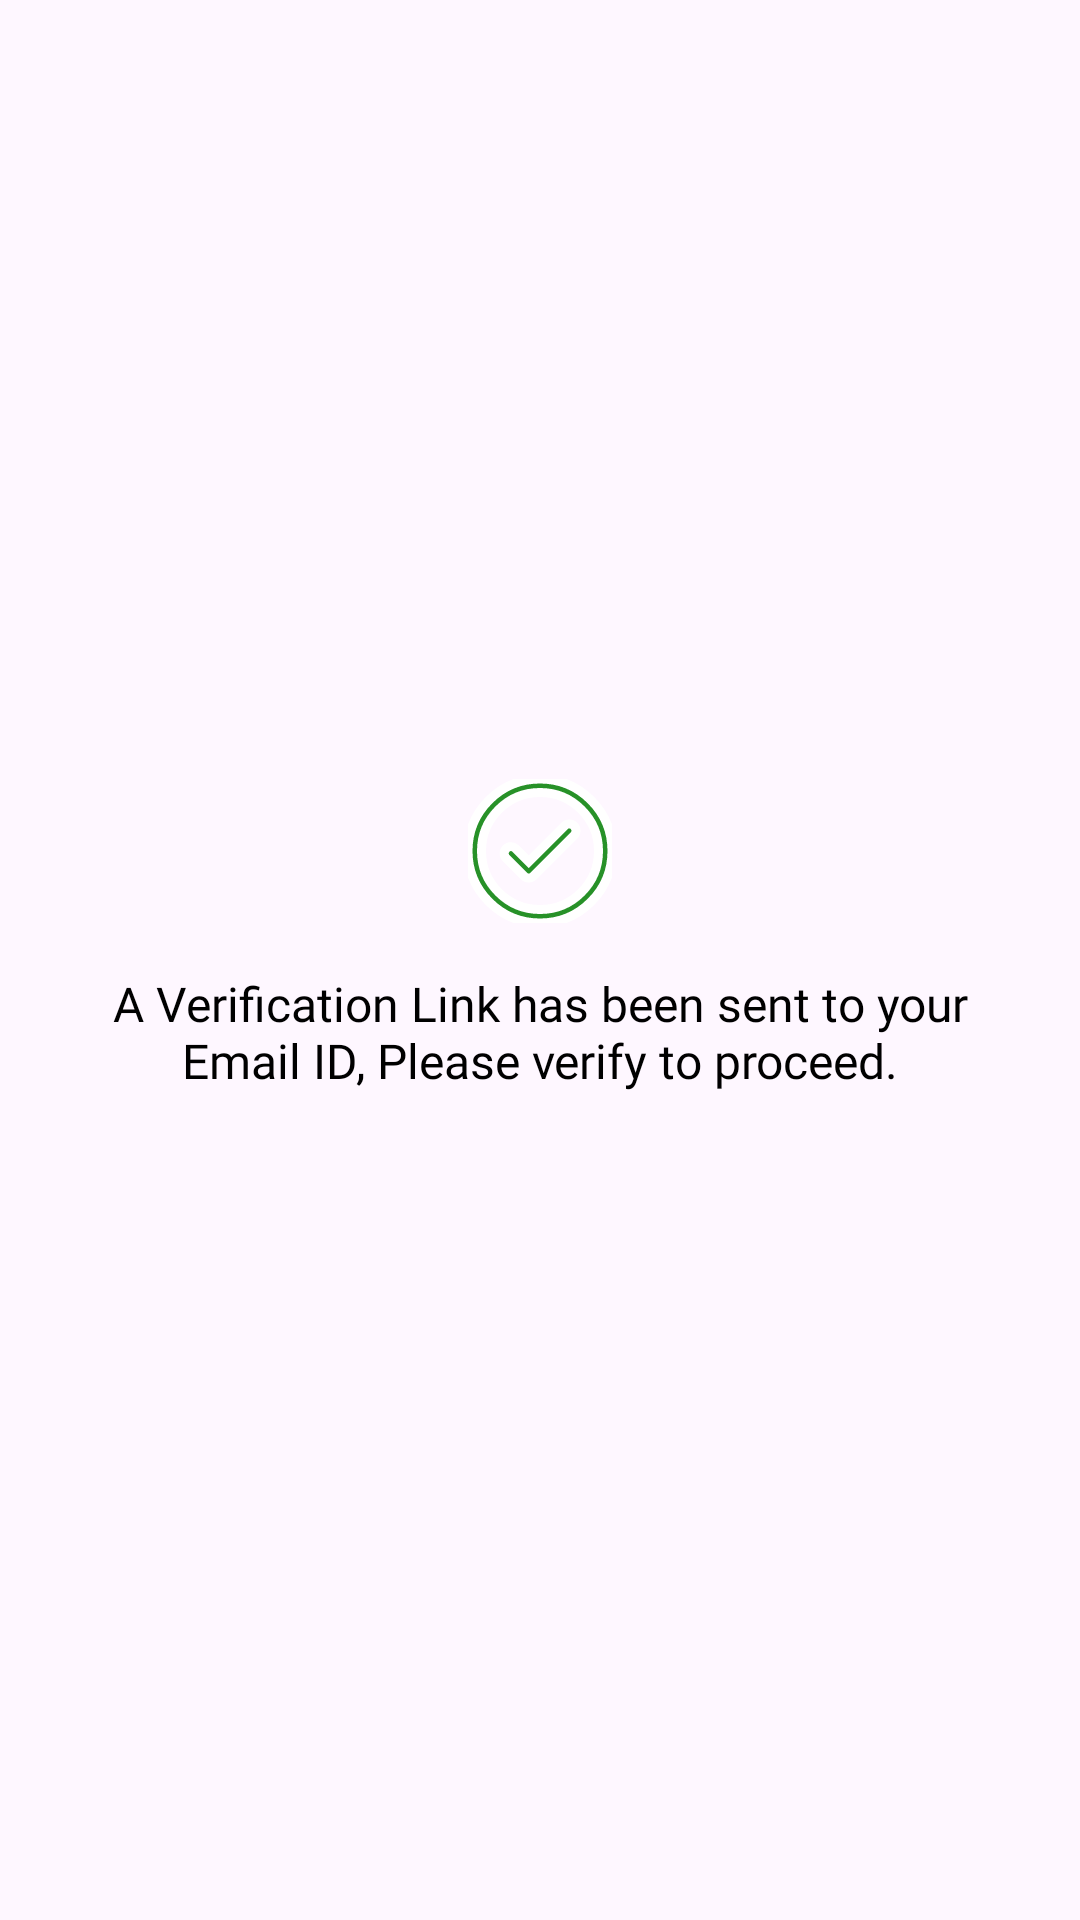

Icon click points for this 1080w x 1920h phone screenshot, format (x=x, y=y):
check circle: (x=540, y=851)
